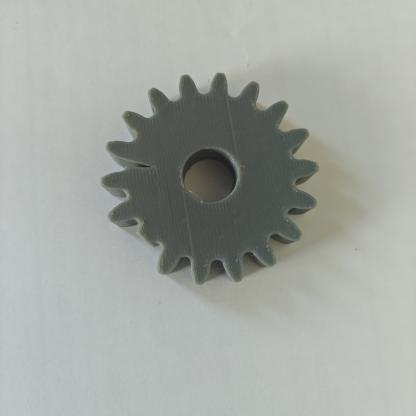defect: (88, 132, 163, 207), (113, 214, 189, 278)
gear: (64, 62, 358, 300)
